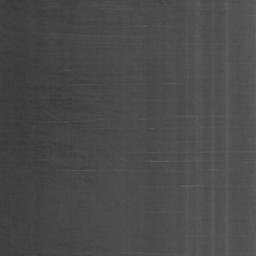Waist folding: (64, 168, 127, 173), (166, 2, 226, 6), (176, 114, 222, 119), (145, 159, 190, 163), (136, 24, 165, 28), (180, 183, 199, 188), (166, 81, 181, 86)
